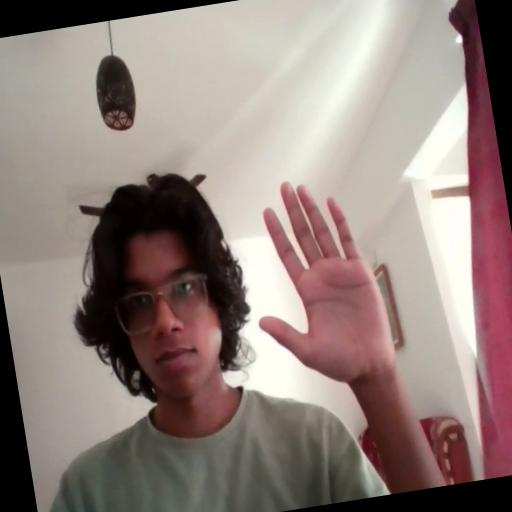Paper: (236, 165, 401, 396)
